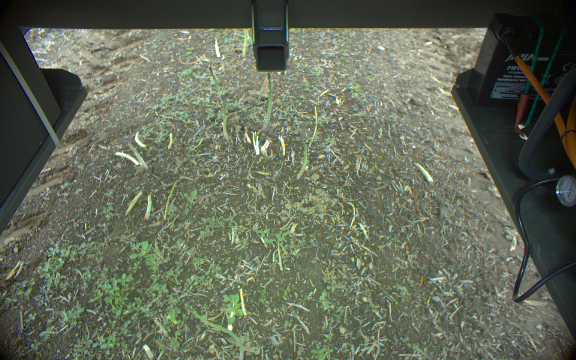aspa: (261, 70, 277, 132), (293, 131, 308, 185), (218, 94, 232, 142), (210, 63, 222, 98), (238, 27, 252, 57), (143, 193, 155, 221)
